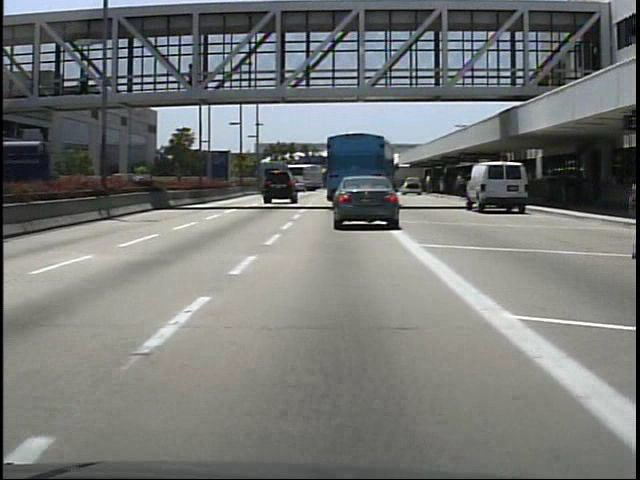person: (558, 166, 579, 208), (184, 62, 201, 99), (79, 66, 95, 96), (456, 170, 469, 197)
